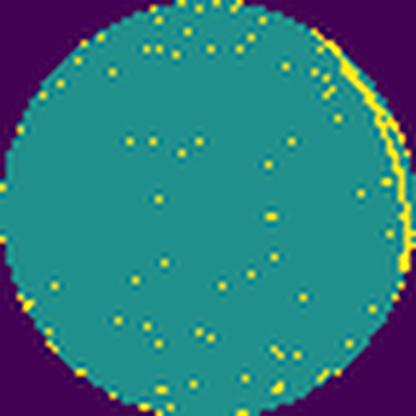Scratch: (309, 25, 416, 276)
